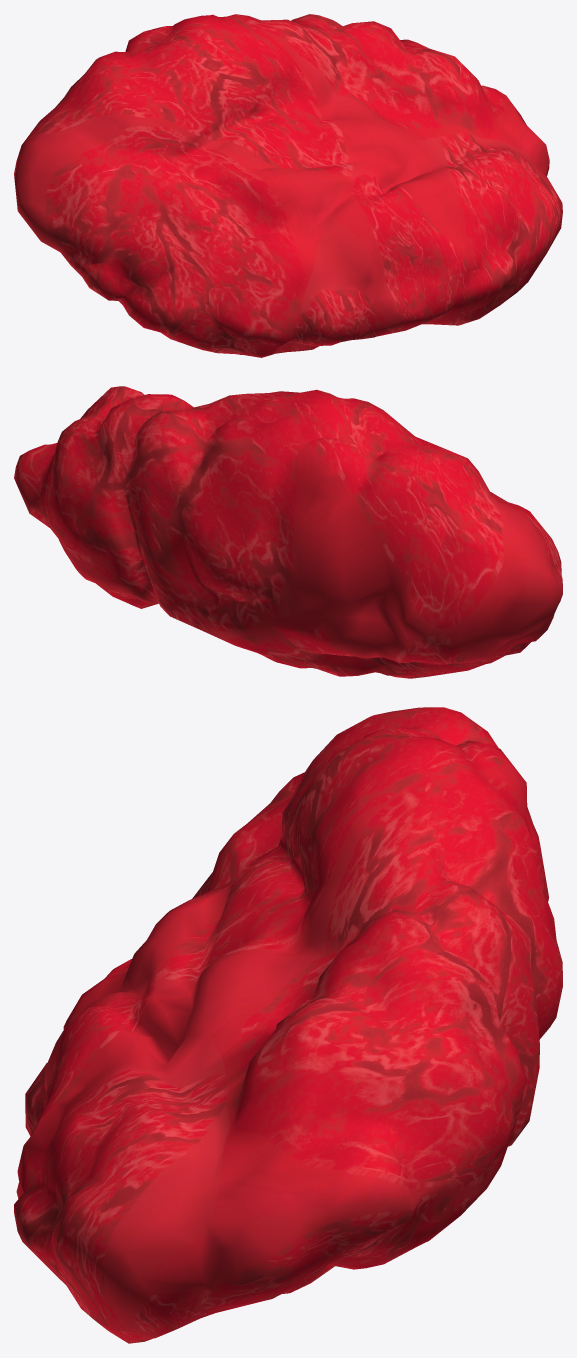
Rendered from SM_e_202_DemonMeatParts_04a.fbx.
The picture shows the model from 3 angles, top to bottom: view 1: azimuth 30°, elevation 25°; view 2: azimuth 150°, elevation 25°; view 3: azimuth 270°, elevation 25°; orthographic projection. The views are drawn at different scales.
Parts seen in each view (by area): view 1: SM_e_202_DemonMeatParts_04a.001; view 2: SM_e_202_DemonMeatParts_04a.001; view 3: SM_e_202_DemonMeatParts_04a.001.
Part boxes in pixels (<box>): SM_e_202_DemonMeatParts_04a.001: <box>14,14,562,357</box>; SM_e_202_DemonMeatParts_04a.001: <box>14,386,562,678</box>; SM_e_202_DemonMeatParts_04a.001: <box>14,707,562,1343</box>.
Size of the model in its own units: 6.59 by 3.61 by 3.96.
Materials: 1 (1 with a texture image).
